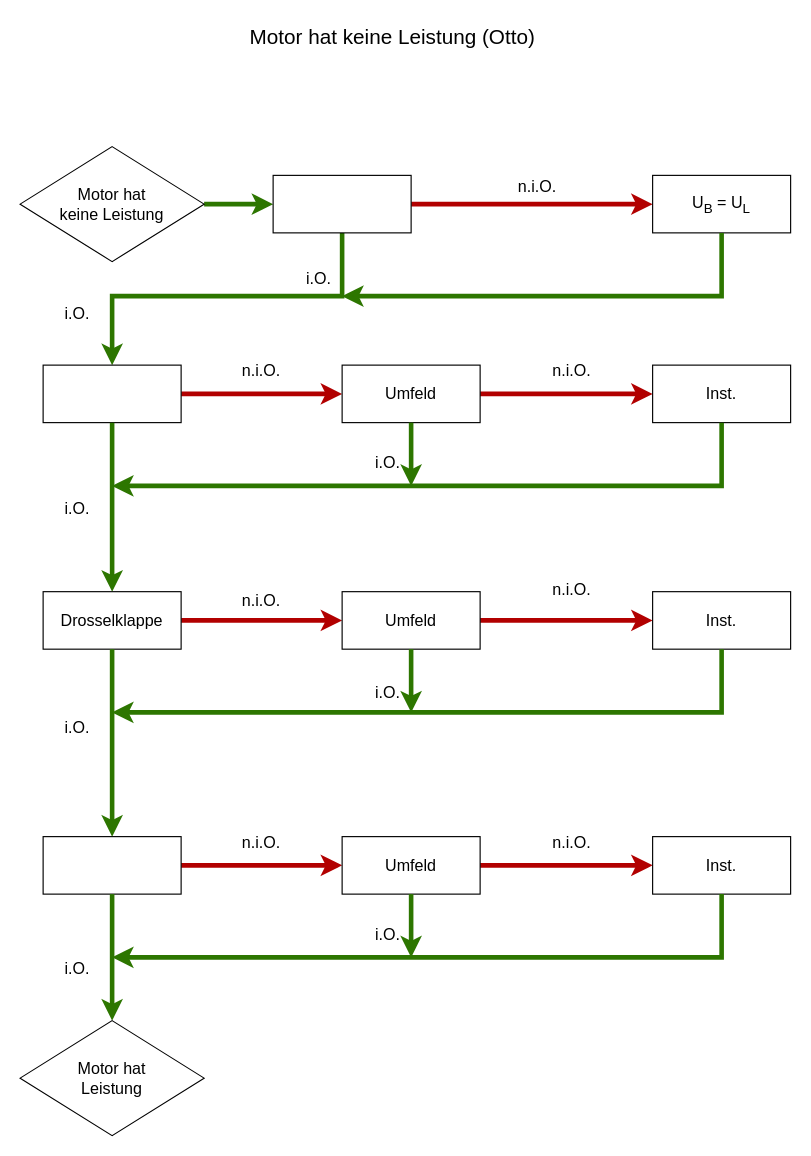
This 811x1156 diagram has some shape labels left out. Each missing label, with the box of its shape:
Fahrpedal: (42, 835, 181, 894)
Luftmasse: (42, 364, 181, 423)
U B >12,60V: (272, 174, 411, 233)
